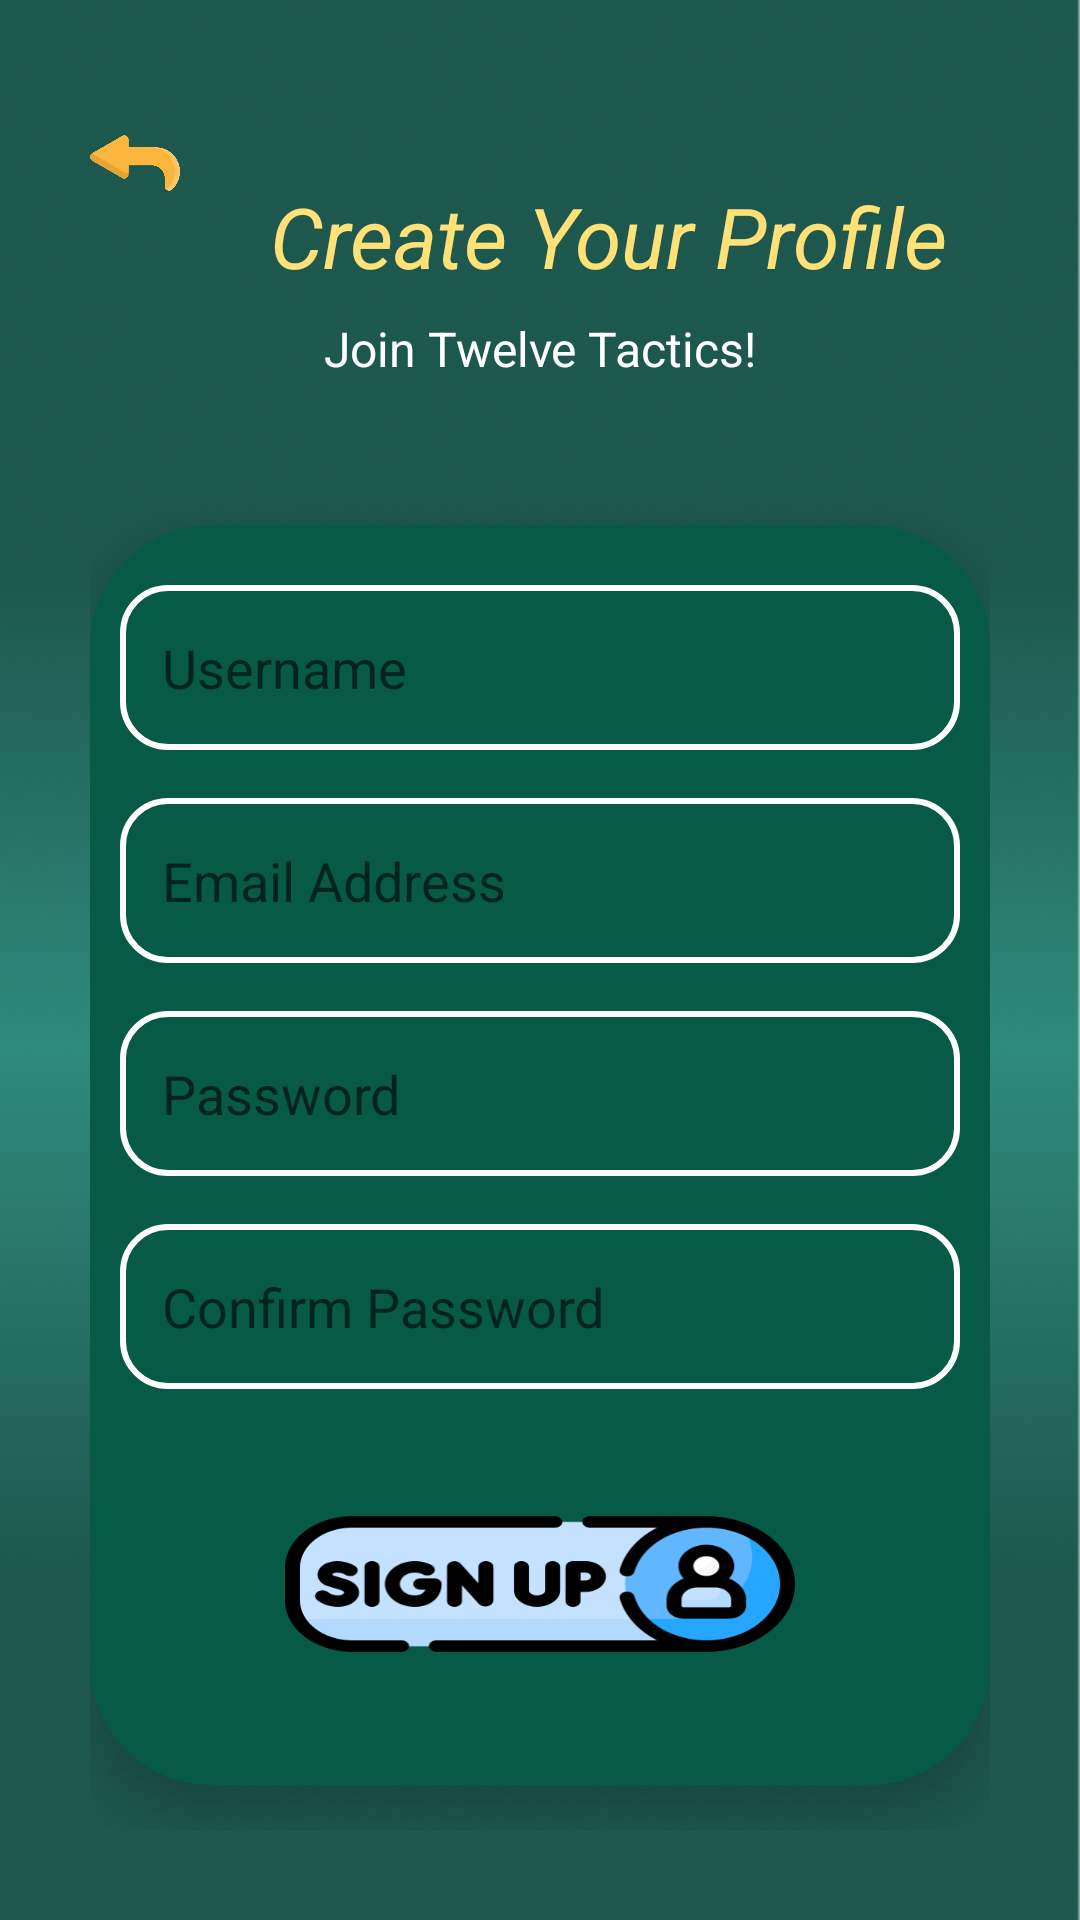

Screen size 1080w x 1920h. Icon name, then its box in pixels as (x1, y1, x2, y2):
back: (90, 135, 180, 191)
